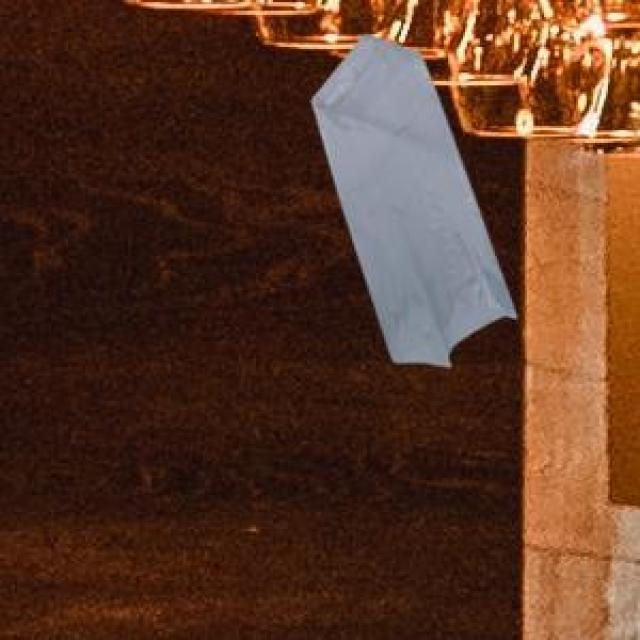waste: (312, 36, 516, 366)
